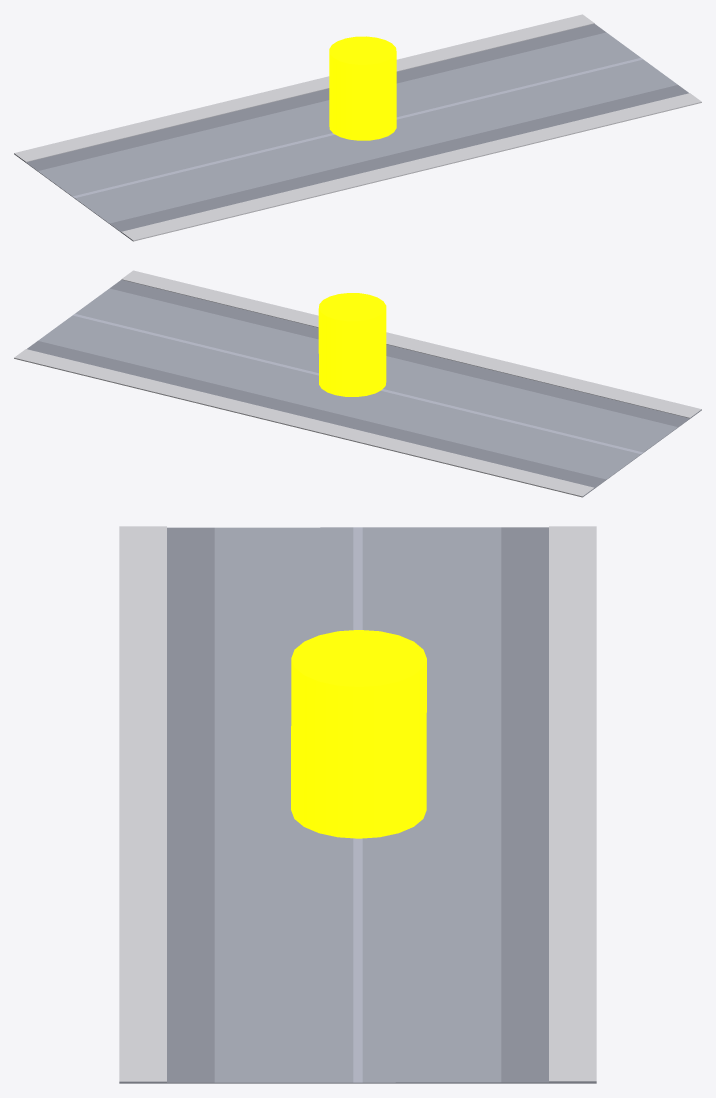
The model's file is cutthis.fbx.
The picture shows the model from 3 angles, top to bottom: view 1: azimuth 30°, elevation 25°; view 2: azimuth 150°, elevation 25°; view 3: azimuth 270°, elevation 25°; orthographic projection. The views are drawn at different scales.
Parts seen in each view (by area): view 1: manhole_street_round2_LARGER, Cylinder_measurer; view 2: manhole_street_round2_LARGER, Cylinder_measurer; view 3: manhole_street_round2_LARGER, Cylinder_measurer.
Part boxes in pixels (x1,y1,x2,y2): manhole_street_round2_LARGER: [14, 14, 701, 241]; Cylinder_measurer: [329, 36, 396, 140]; manhole_street_round2_LARGER: [14, 270, 701, 497]; Cylinder_measurer: [318, 293, 386, 396]; manhole_street_round2_LARGER: [119, 526, 596, 1083]; Cylinder_measurer: [291, 630, 426, 838].
Size of the model in its own units: 1094 by 200 by 398.
